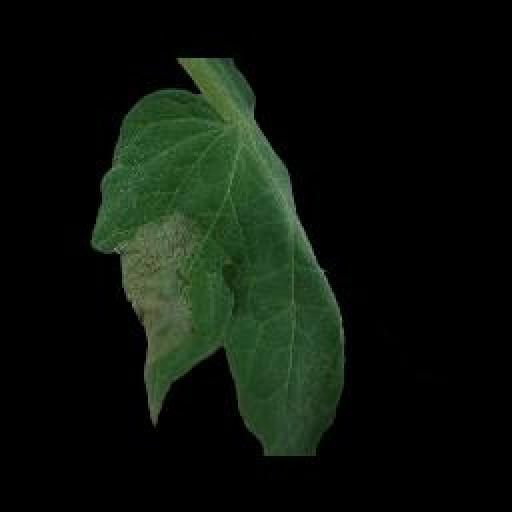Late Blight: (89, 83, 344, 457)
